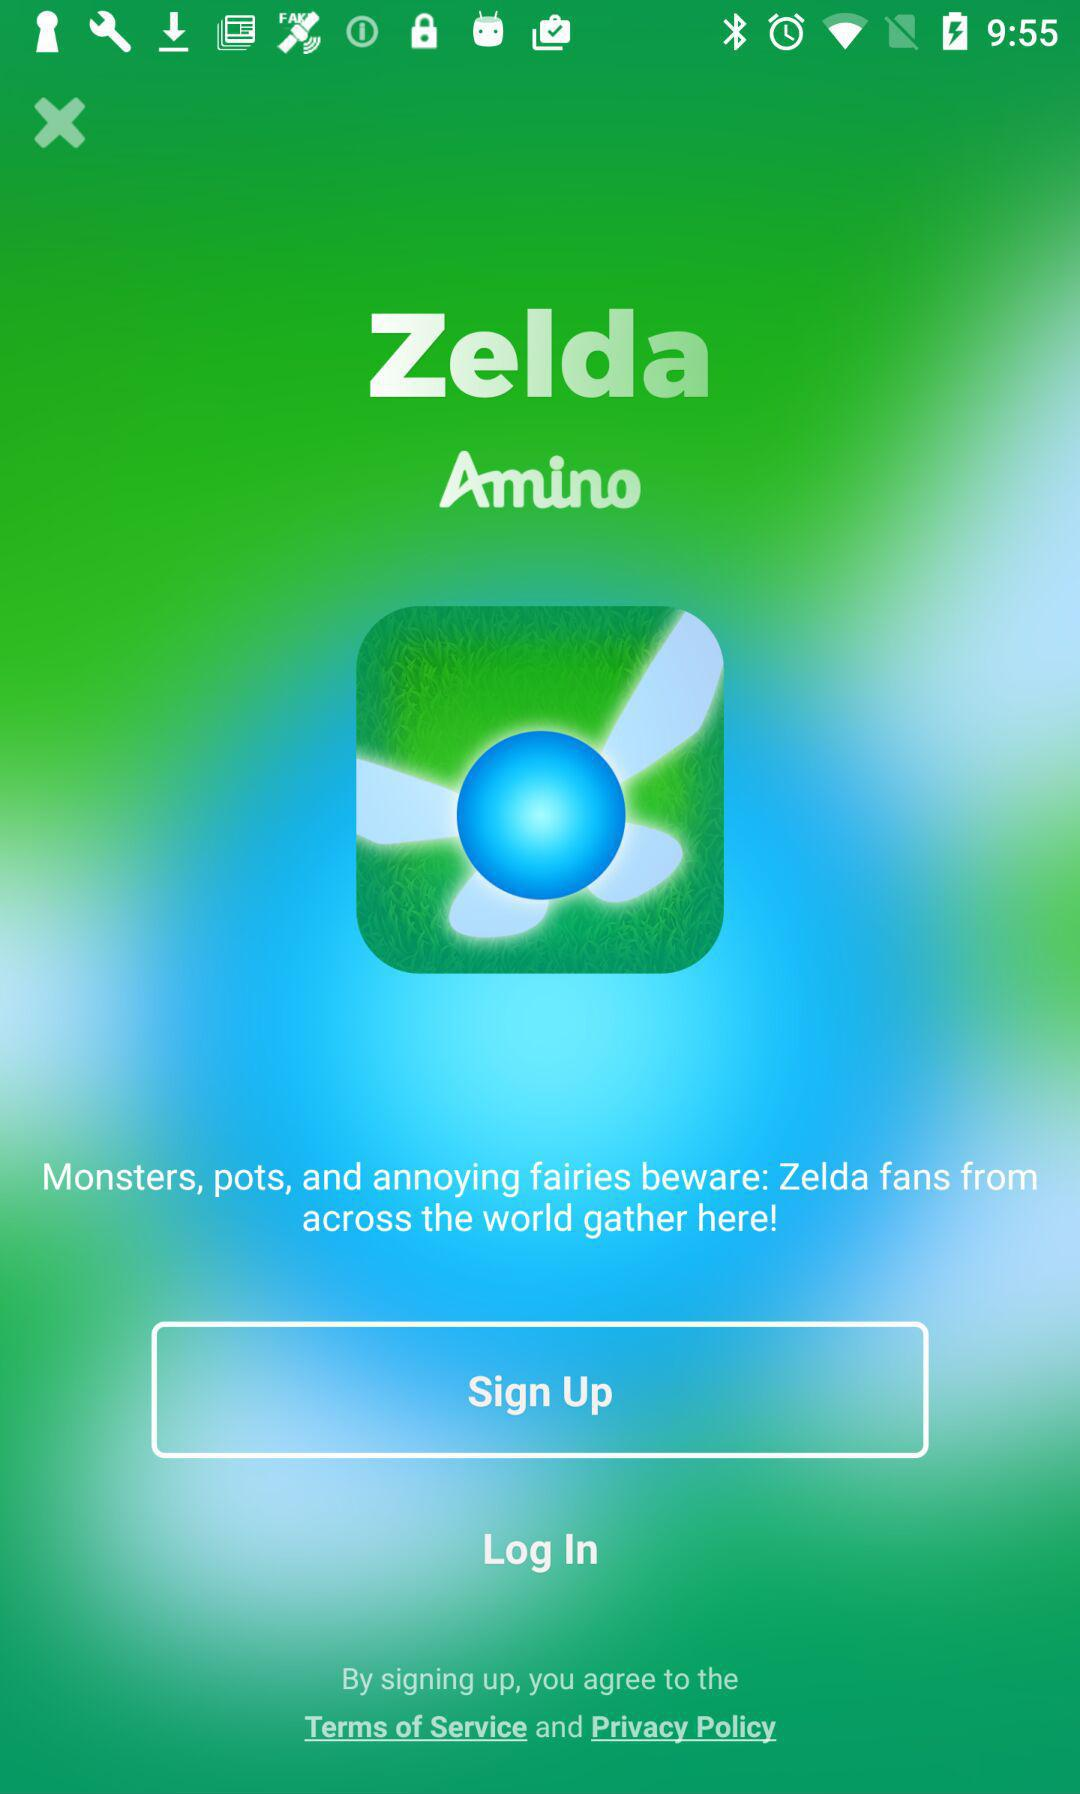Icon: (35, 97, 87, 150)
Image: (356, 605, 726, 976), (439, 450, 643, 510)
Text: (44, 1160, 1038, 1244), (304, 1665, 778, 1745), (370, 309, 708, 400), (483, 1533, 600, 1575)
TextButton: (151, 1321, 930, 1460)
UpperTaskBar: (1, 1, 1080, 56)
